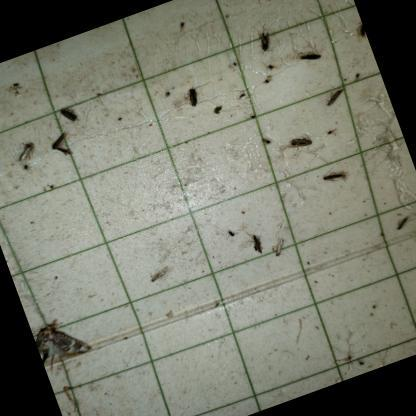prays_oleae: (40, 122, 82, 166), (316, 155, 353, 193), (316, 80, 352, 117), (6, 134, 40, 170), (249, 16, 278, 58), (50, 97, 88, 129), (287, 124, 319, 155), (178, 82, 206, 112), (388, 209, 416, 237), (300, 42, 326, 71), (348, 16, 370, 49)
